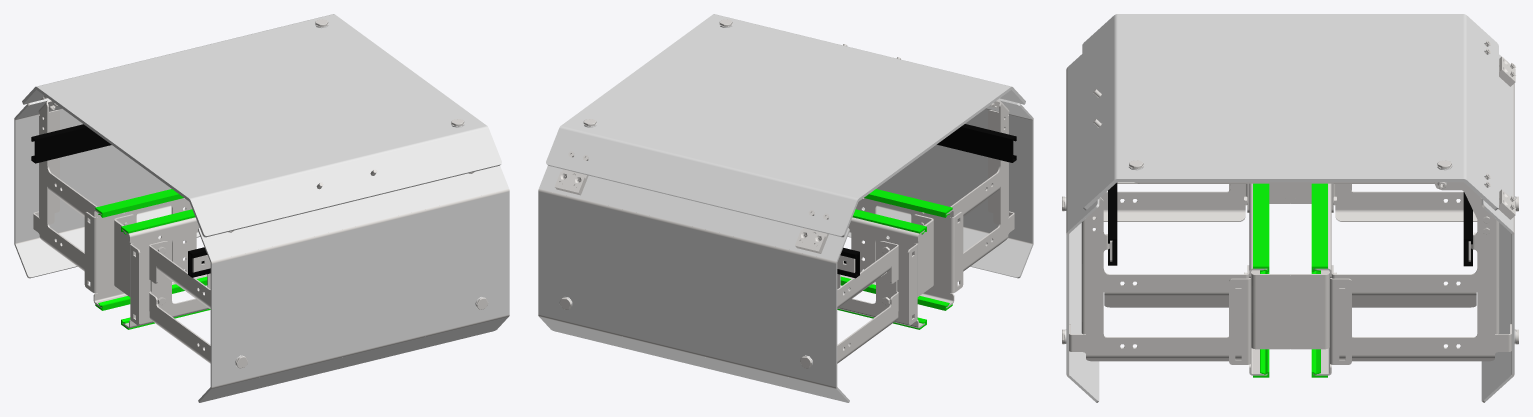
3 renders of one model, left to right at view 1: azimuth 30°, elevation 25°; view 2: azimuth 150°, elevation 25°; view 3: azimuth 270°, elevation 25°, orthographic. The views are drawn at different scales.
Parts seen in each view (by area): view 1: glass, base; view 2: glass, base; view 3: glass, base.
Part boxes in pixels (left/top/right/bottom): glass: left=14, top=14, right=509, bottom=402; base: left=14, top=19, right=509, bottom=388; glass: left=538, top=14, right=1033, bottom=402; base: left=538, top=19, right=1033, bottom=402; glass: left=1066, top=14, right=1514, bottom=402; base: left=1062, top=40, right=1518, bottom=402.
Bounding box in the file's own units: 0.625 × 0.4014 × 0.726.
1 material, 1 textured.
